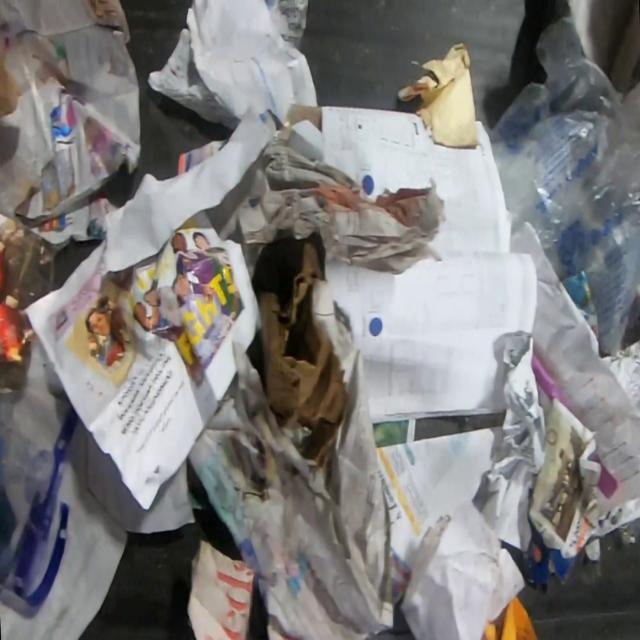cardboard: (244, 226, 348, 474), (522, 529, 578, 586), (0, 63, 22, 119)
soft_plastic: (488, 15, 640, 353), (0, 361, 80, 609)
